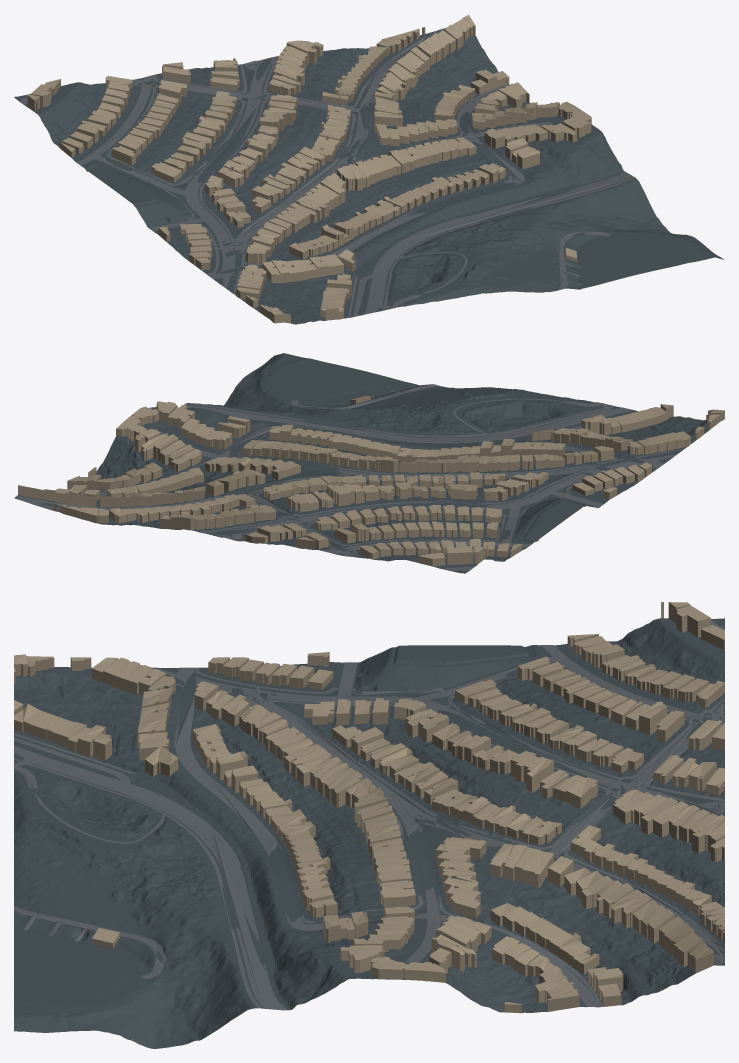
Rendered from epsg26910-1428-10878.lod0.glb.
3 views of the same model, one above another, from view 1: azimuth 30°, elevation 25°; view 2: azimuth 150°, elevation 25°; view 3: azimuth 270°, elevation 25° (orthographic). The views are drawn at different scales.
Parts seen in each view (by area): view 1: epsg26910-1428-10878-lod0; view 2: epsg26910-1428-10878-lod0; view 3: epsg26910-1428-10878-lod0.
Boxes of the visible parts, x1,y1,x2,y2 form: epsg26910-1428-10878-lod0: [14, 14, 724, 324]; epsg26910-1428-10878-lod0: [14, 353, 724, 573]; epsg26910-1428-10878-lod0: [14, 602, 724, 1048].
Size of the model in its own units: 384 by 87.17 by 384.
